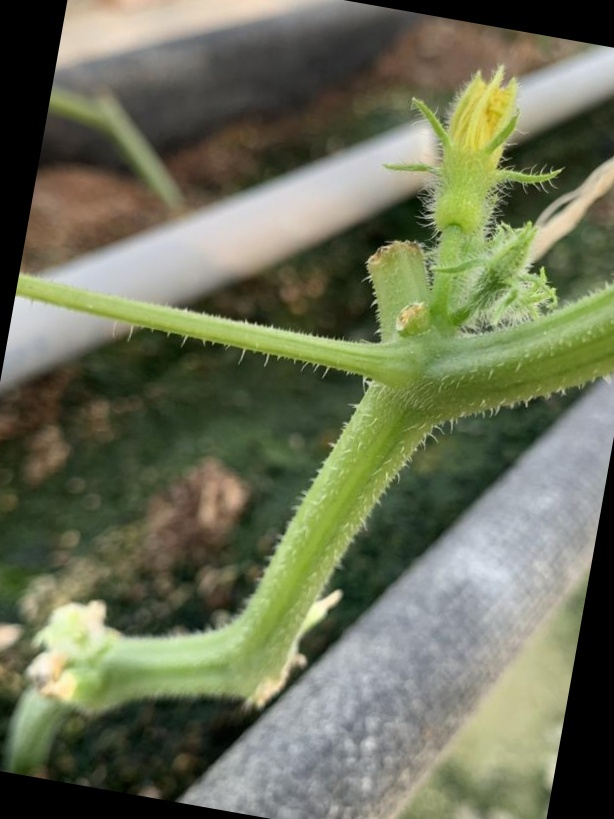bud: (406, 74, 537, 244)
